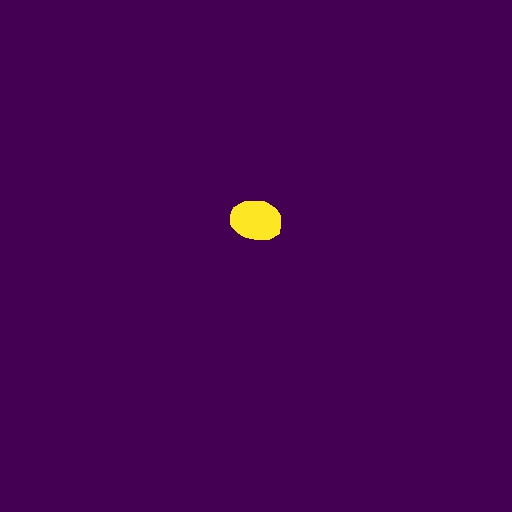Pituirity_tumour: (230, 201, 281, 240)
